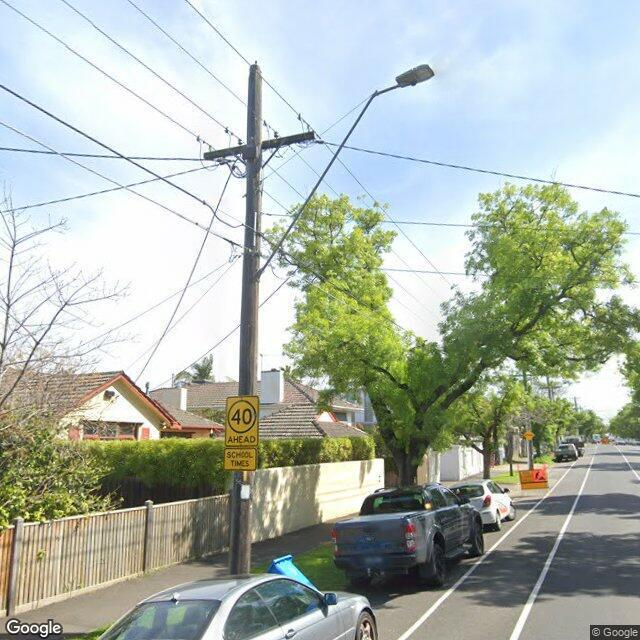crossarm: (196, 114, 317, 172), (538, 385, 563, 390), (511, 374, 538, 377)
streetlight: (256, 63, 436, 280)
timber-pole: (227, 63, 263, 575), (523, 371, 534, 468), (547, 377, 553, 399), (574, 396, 578, 411)
